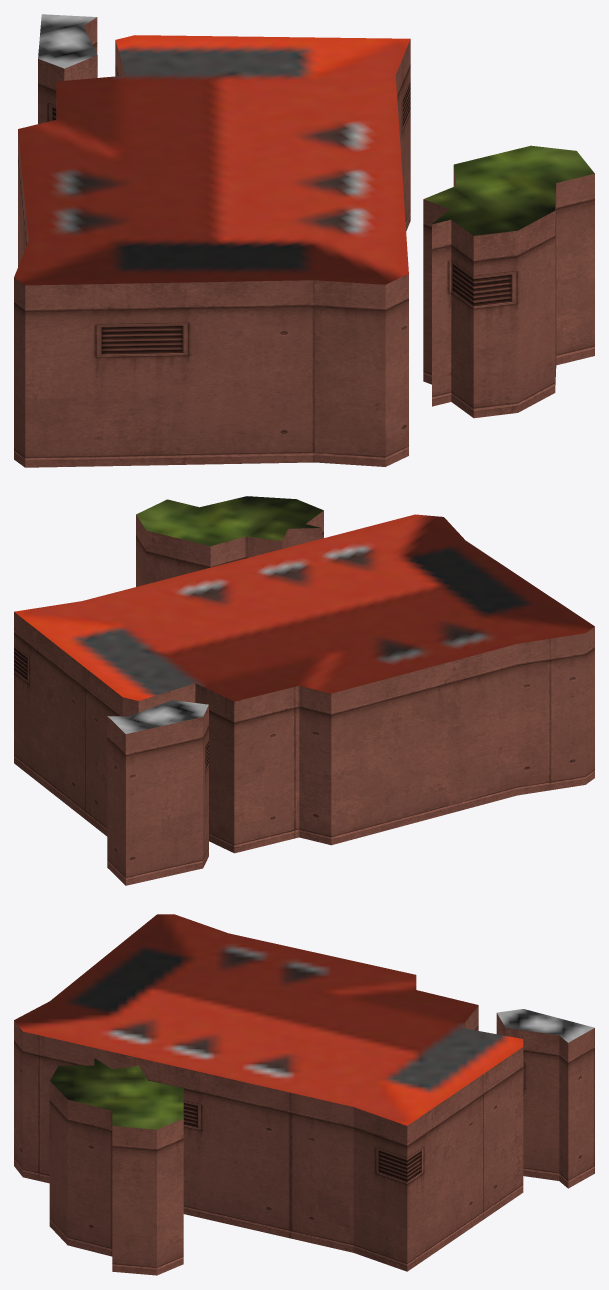
The model's file is medium_c.glb.
The picture shows the model from 3 angles, top to bottom: view 1: azimuth 30°, elevation 25°; view 2: azimuth 150°, elevation 25°; view 3: azimuth 270°, elevation 25°; orthographic projection. The views are drawn at different scales.
Visible parts, largest first — view 1: buildings/saxarba/SMV_Buildings/medium_c; view 2: buildings/saxarba/SMV_Buildings/medium_c; view 3: buildings/saxarba/SMV_Buildings/medium_c.
Part boxes in pixels (<box>): buildings/saxarba/SMV_Buildings/medium_c: <box>14,14,594,467</box>; buildings/saxarba/SMV_Buildings/medium_c: <box>14,496,594,885</box>; buildings/saxarba/SMV_Buildings/medium_c: <box>14,914,594,1275</box>.
Size of the model in its own units: 57 by 18 by 65.
